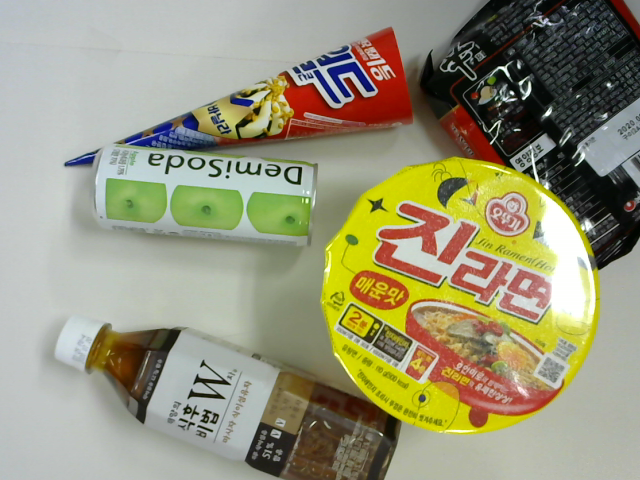Demisoda_Apple_Can_250ml: (90, 144, 313, 251)
Jinlamyeon_Hot_Taste_Large_Cup: (333, 154, 596, 419)
Post-meal_recipe_W_tea_500ml: (52, 314, 402, 480)
Sinramen_Black: (423, 1, 639, 270)
World_Cone_Banila: (66, 23, 420, 167)
